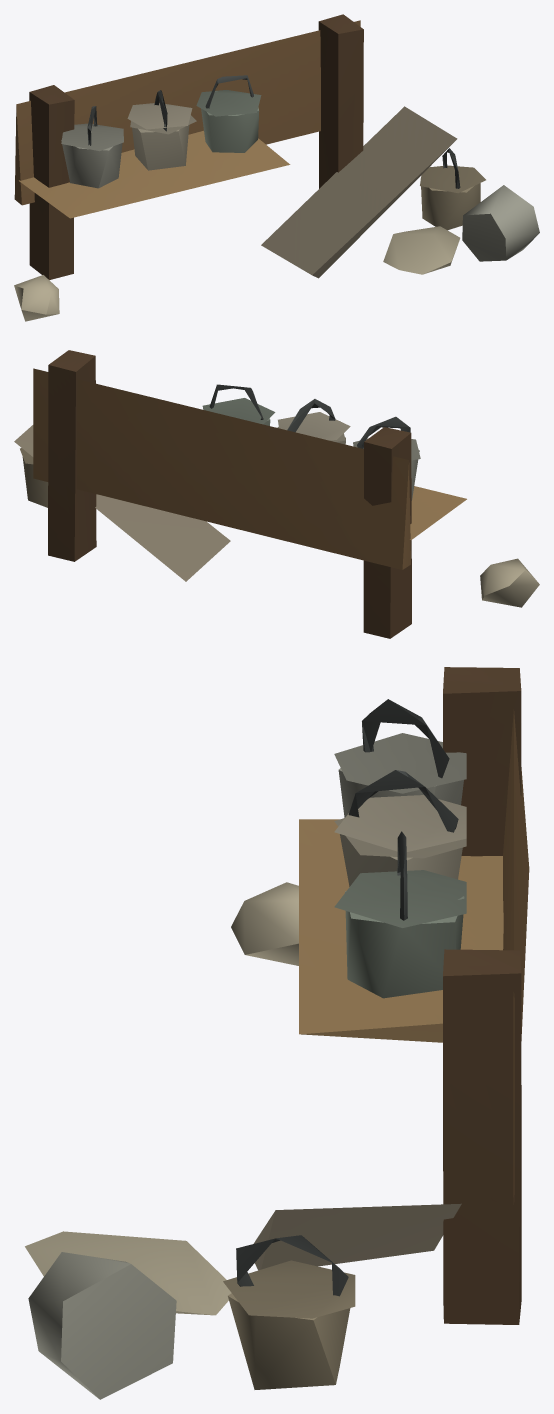
File: lunch_shelf_b_lod2.glb
3 renders of one model, top to bottom at view 1: azimuth 30°, elevation 25°; view 2: azimuth 150°, elevation 25°; view 3: azimuth 270°, elevation 25°, orthographic. The views are drawn at different scales.
Parts seen in each view (by area): view 1: Surface.001; view 2: Surface.001; view 3: Surface.001.
Boxes of the visible parts, left/top/right/bottom form: Surface.001: left=14, top=14, right=539, bottom=321; Surface.001: left=14, top=350, right=539, bottom=638; Surface.001: left=25, top=667, right=529, bottom=1399.
Bounding box in the file's own units: 3.4 × 1.35 × 1.59.
